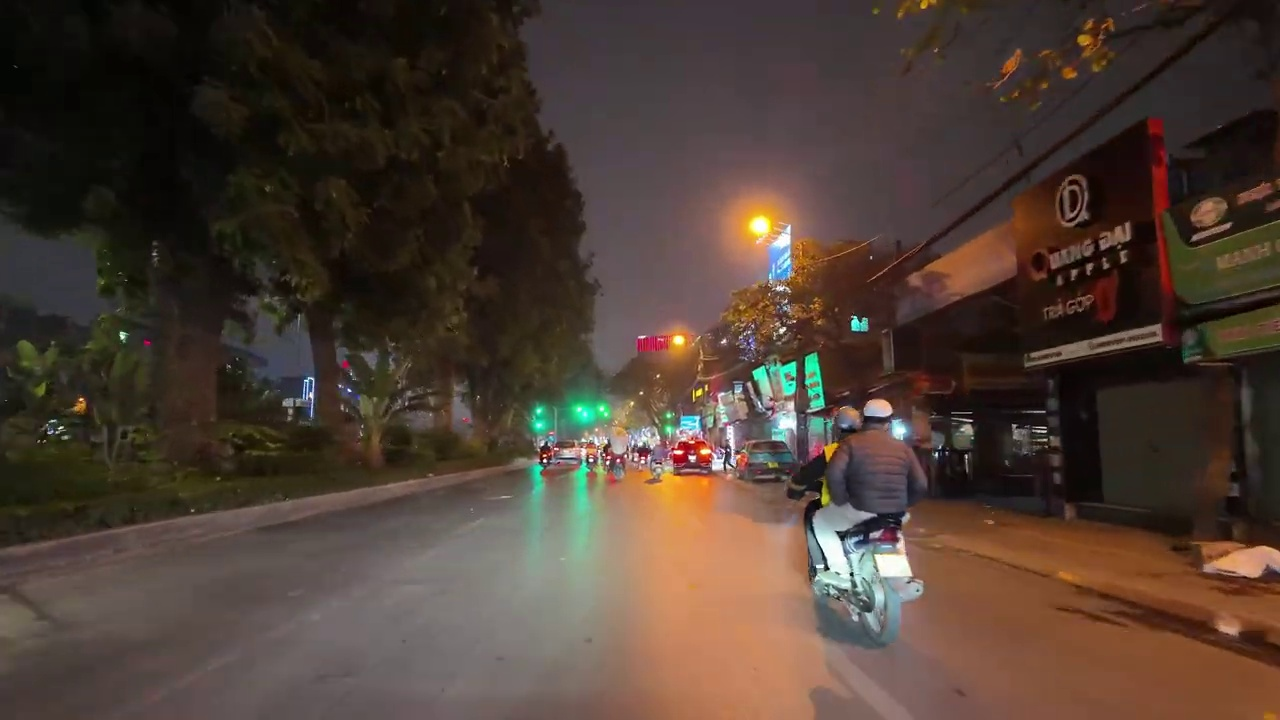acesa: (737, 206, 780, 248), (666, 328, 693, 356)
